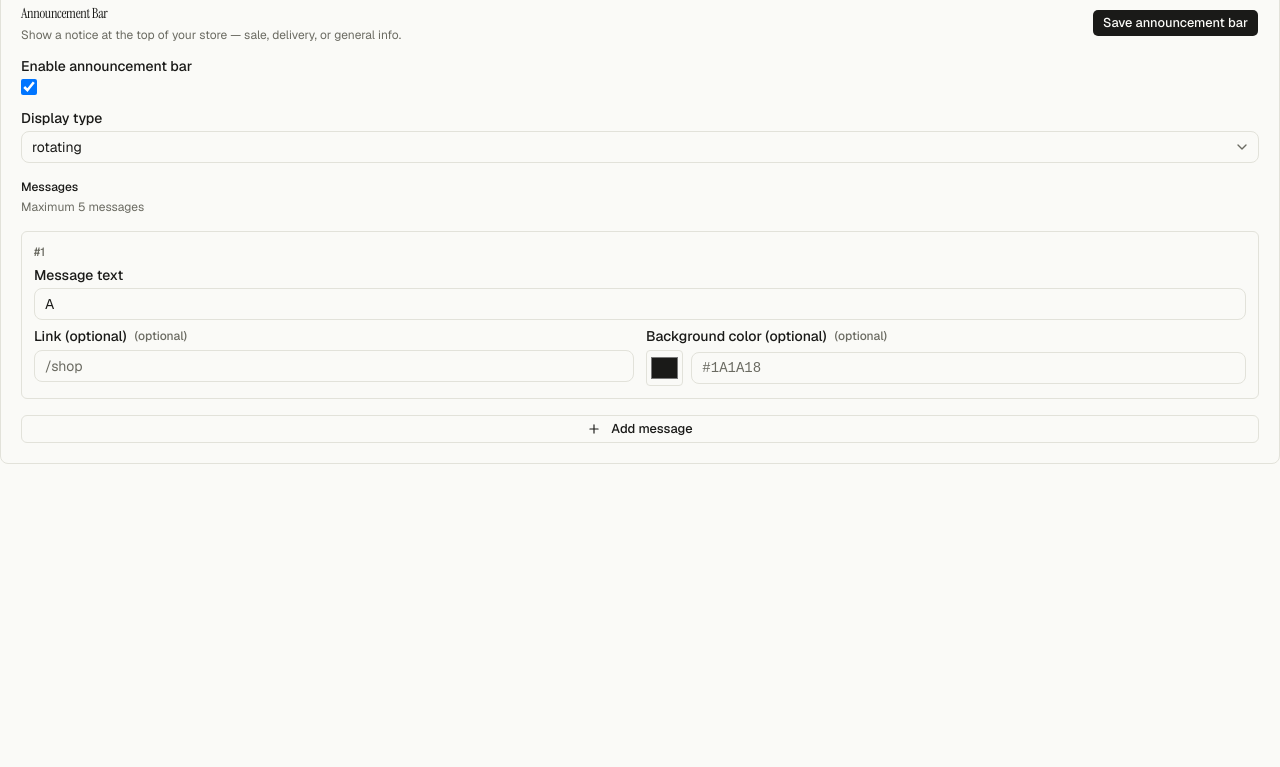
Test case: AnnouncementControls › add / remove messages (rotating) › can add messages up to MAX_ANNOUNCEMENT_MESSAGES
Click the button "Add message" at (640, 429), box [21,415,1259,443]
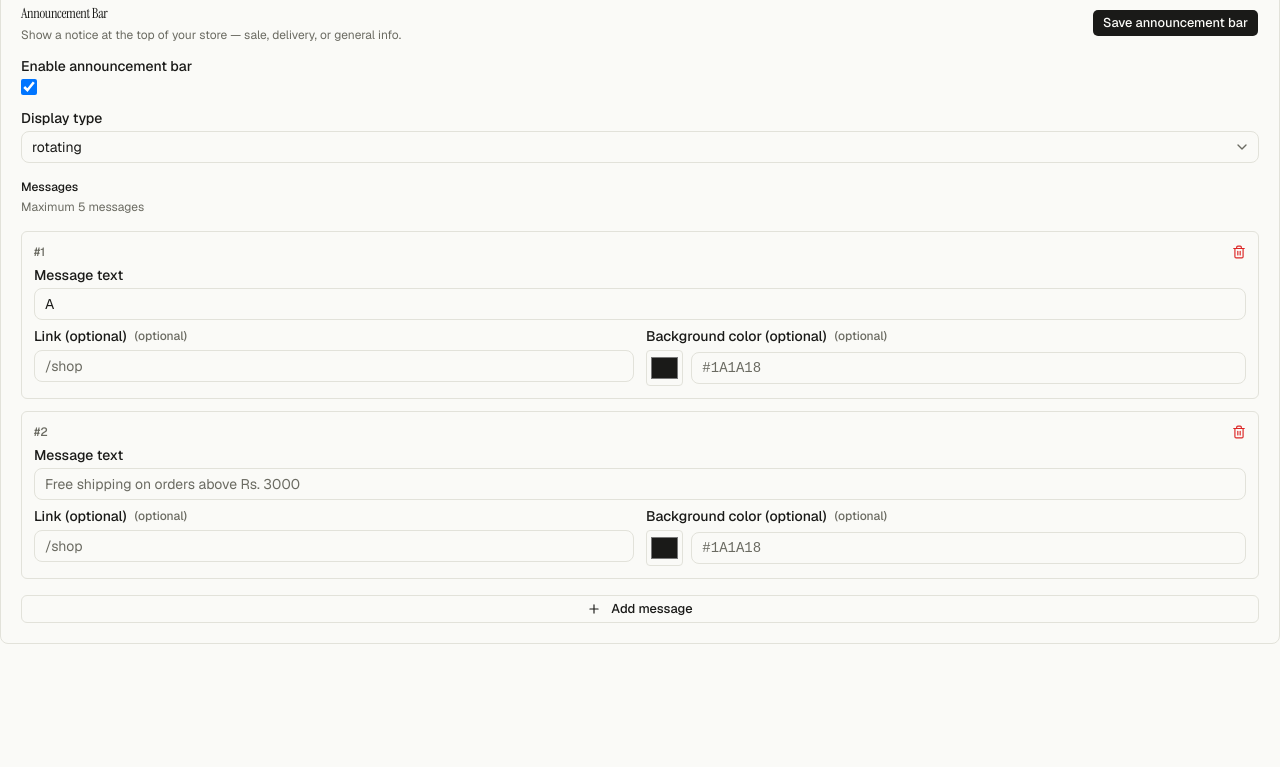
Click the button "Add message" at (640, 609), box [21,595,1259,623]
(page scrolled)
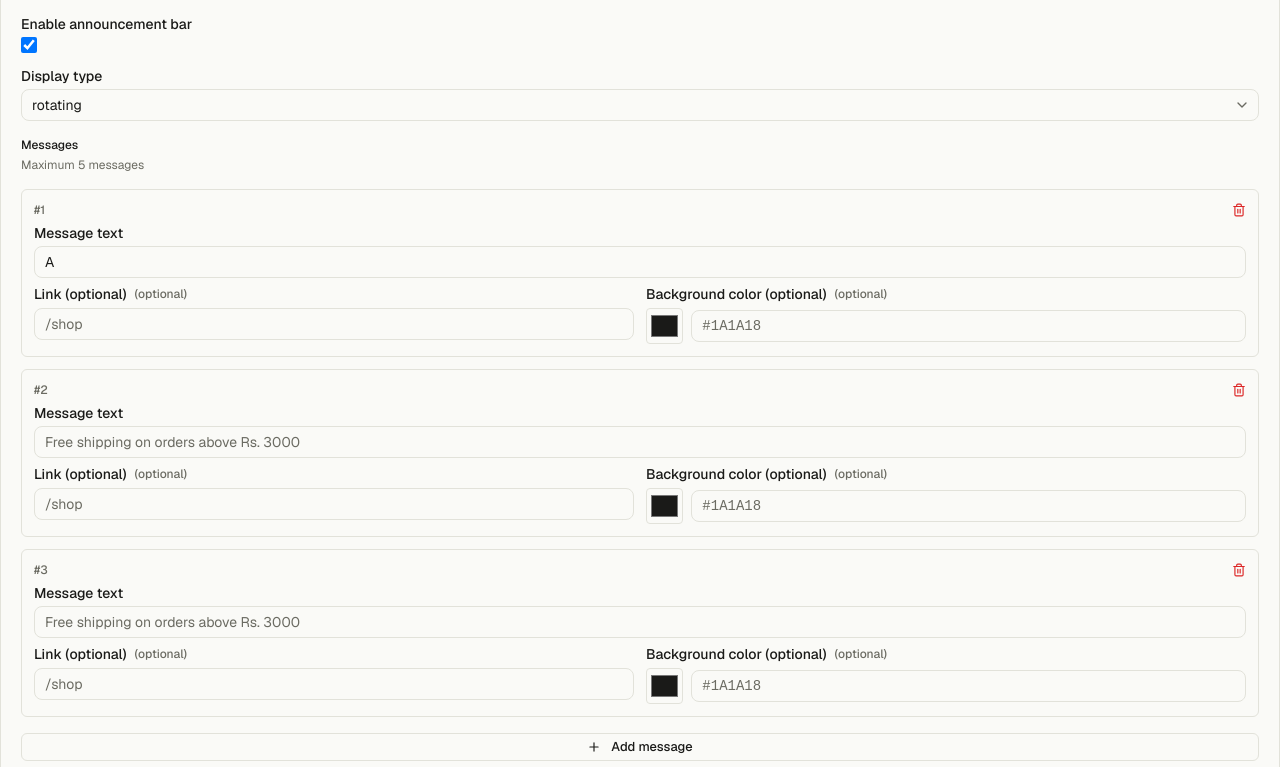
Click the button "Add message" at (640, 747), box [21,733,1259,761]
(page scrolled)
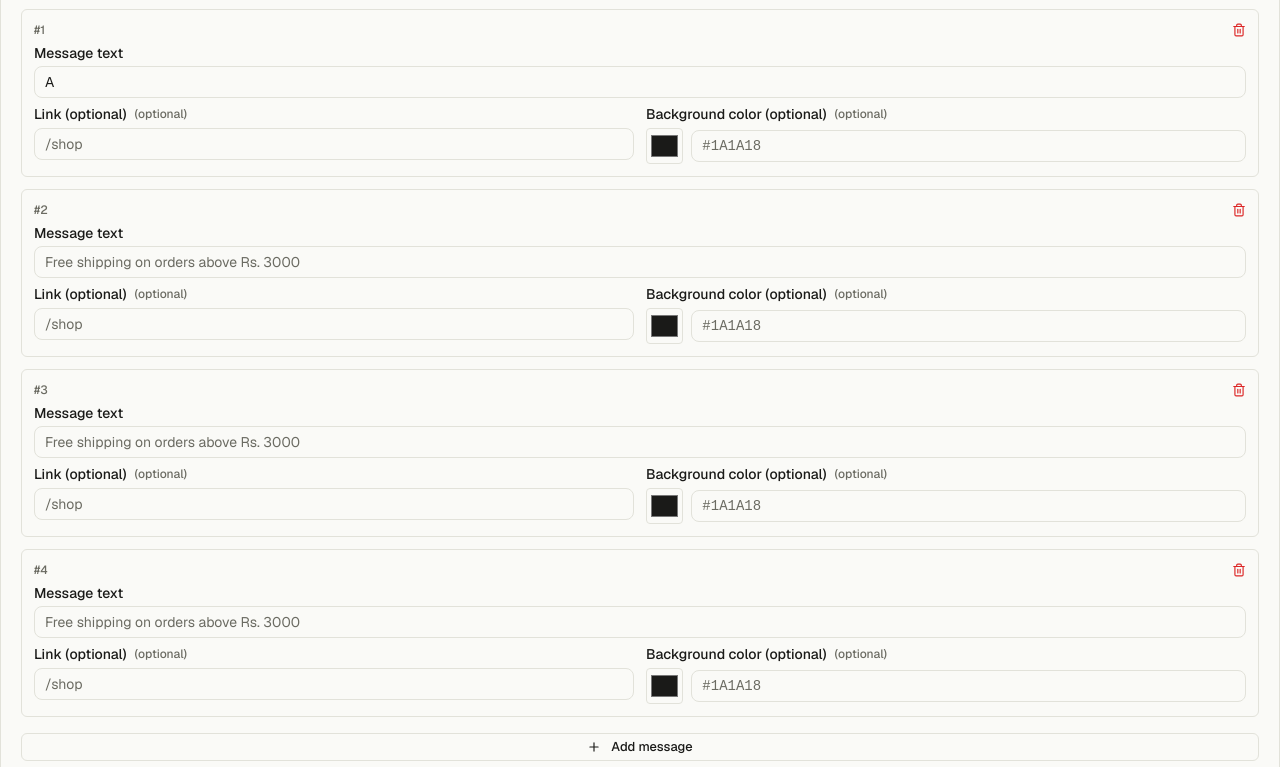
Click the button "Add message" at (640, 747), box [21,733,1259,761]
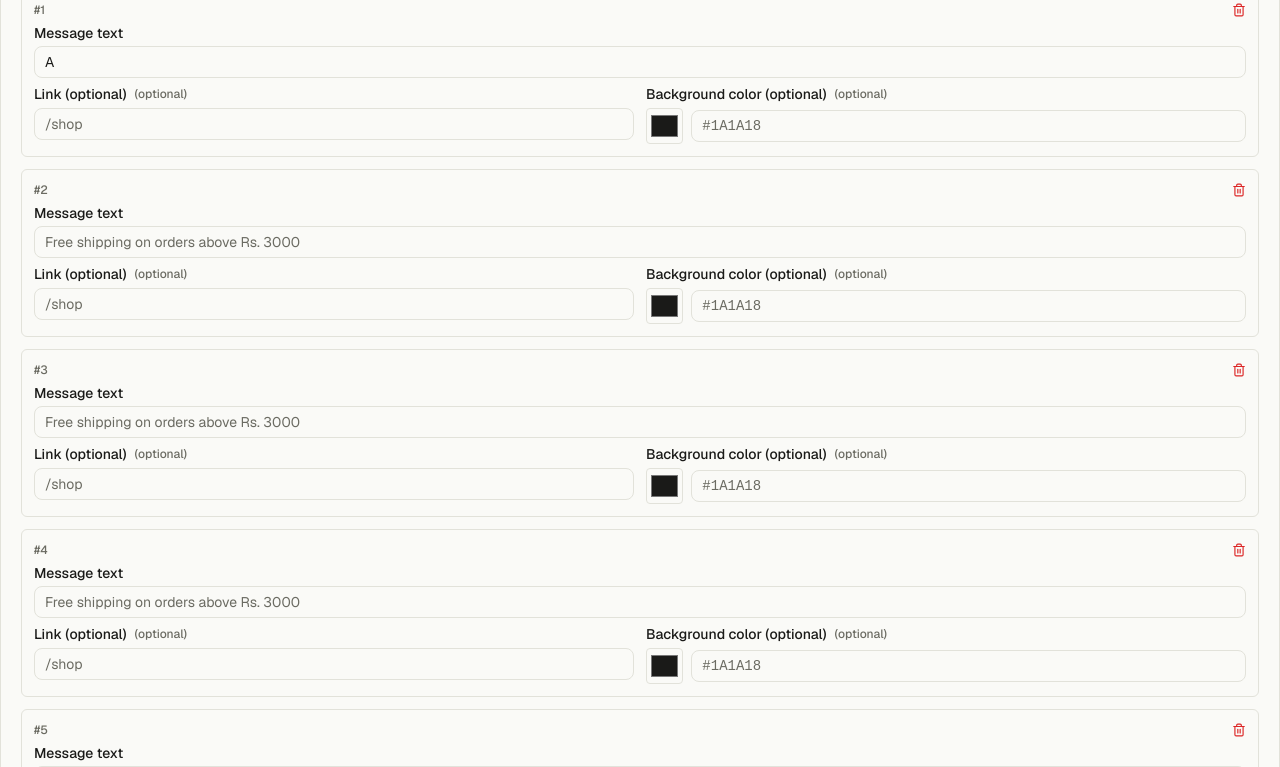
Now the button "Add message" is gone
